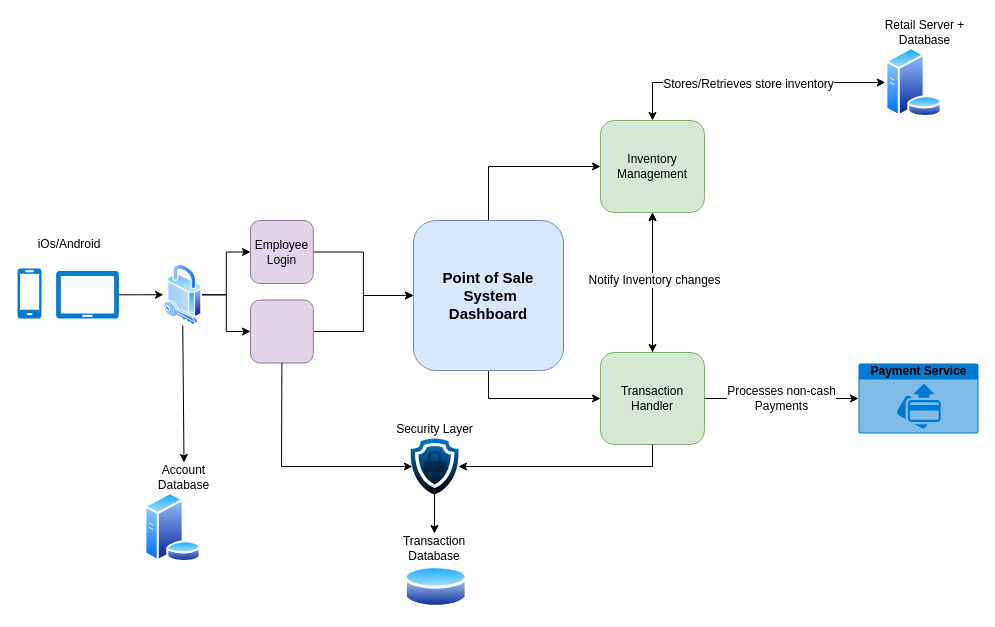
This 995x627 diagram has some shape labels left out. Each missing label, with the centre of its shape:
Admin Login: (x=281, y=331)
Secure Login Service: (x=182, y=294)
